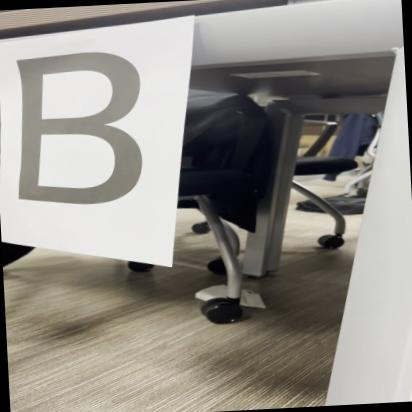seat: (0, 41, 158, 218)
